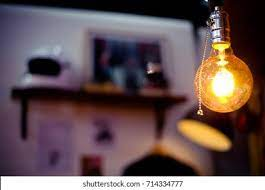bulb: (197, 36, 255, 130)
